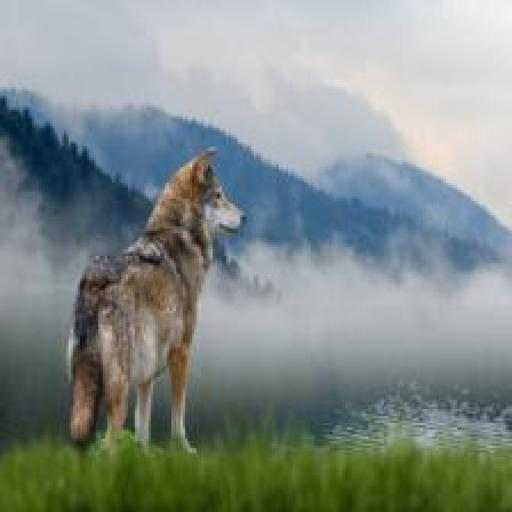wolf: (34, 137, 260, 458)
